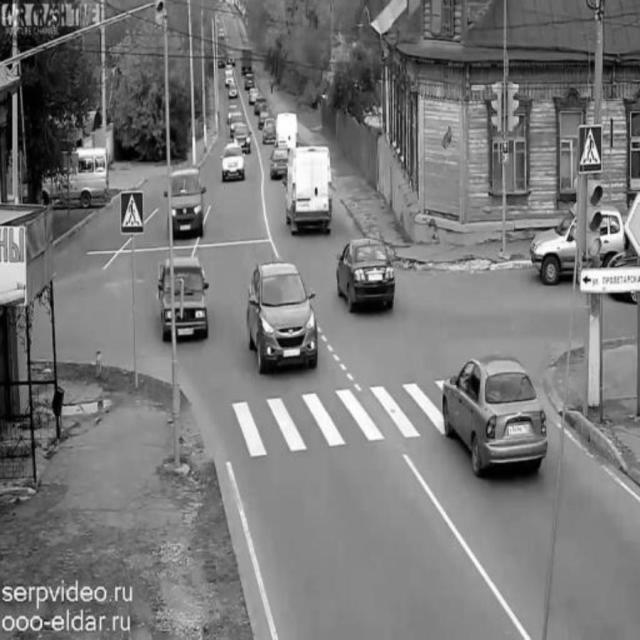vehicle: (443, 359, 544, 483), (246, 259, 317, 370), (530, 208, 626, 284), (337, 238, 393, 314), (157, 261, 211, 339), (286, 146, 330, 238), (44, 147, 112, 204), (168, 169, 209, 237), (219, 141, 247, 183), (269, 140, 287, 180), (229, 110, 247, 137), (238, 44, 254, 74), (254, 94, 269, 118), (224, 66, 236, 90)
